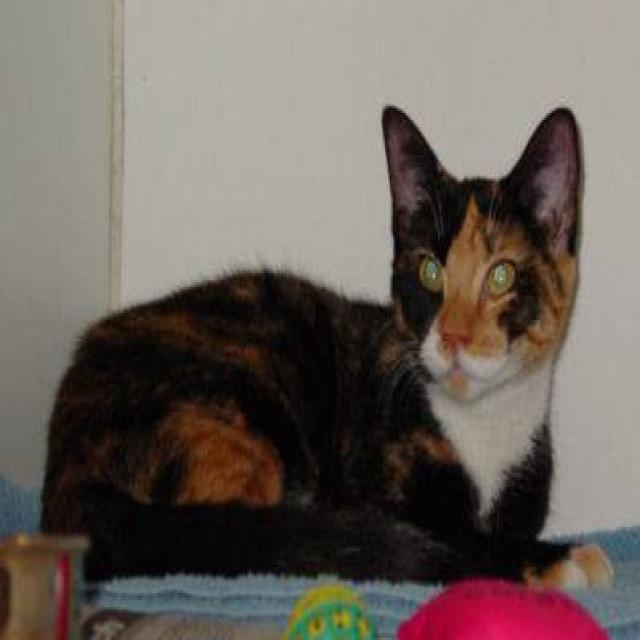cat: (38, 101, 614, 591)
